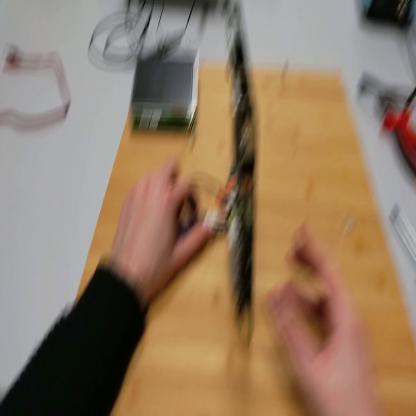hand: (270, 221, 380, 416), (112, 156, 210, 301)
low voltage board: (182, 2, 261, 366)
oscilloscope probe tip: (137, 29, 187, 64)
pliers: (357, 73, 416, 180), (180, 195, 228, 236)
screwdriver-: (389, 203, 416, 261)
welder station: (361, 1, 416, 32)
working area: (77, 64, 416, 415)
